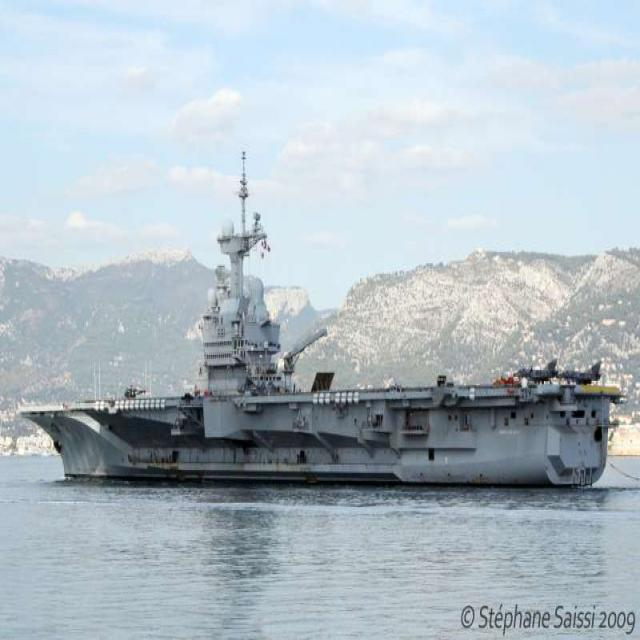Portanaves: (18, 146, 631, 492)
